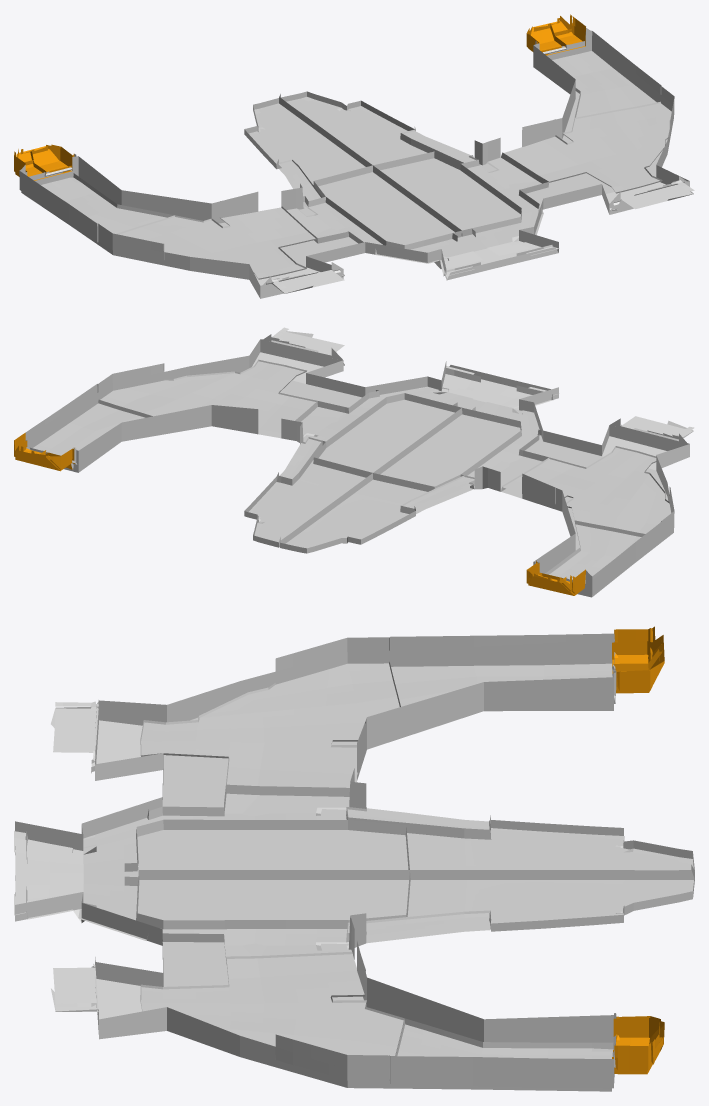
Rendered from interior ship model floor.fbx.
3 views of the same model, one above another, from view 1: azimuth 30°, elevation 25°; view 2: azimuth 150°, elevation 25°; view 3: azimuth 270°, elevation 25° (orthographic). The views are drawn at different scales.
Visible parts, largest first — view 1: Cube.001; view 2: Cube.001; view 3: Cube.001.
Part boxes in pixels (x1,y1,x2,y2): Cube.001: (14,14,694,298); Cube.001: (14,327,694,597); Cube.001: (14,626,694,1091).
Size of the model in its own units: 1295 by 86.67 by 876.
